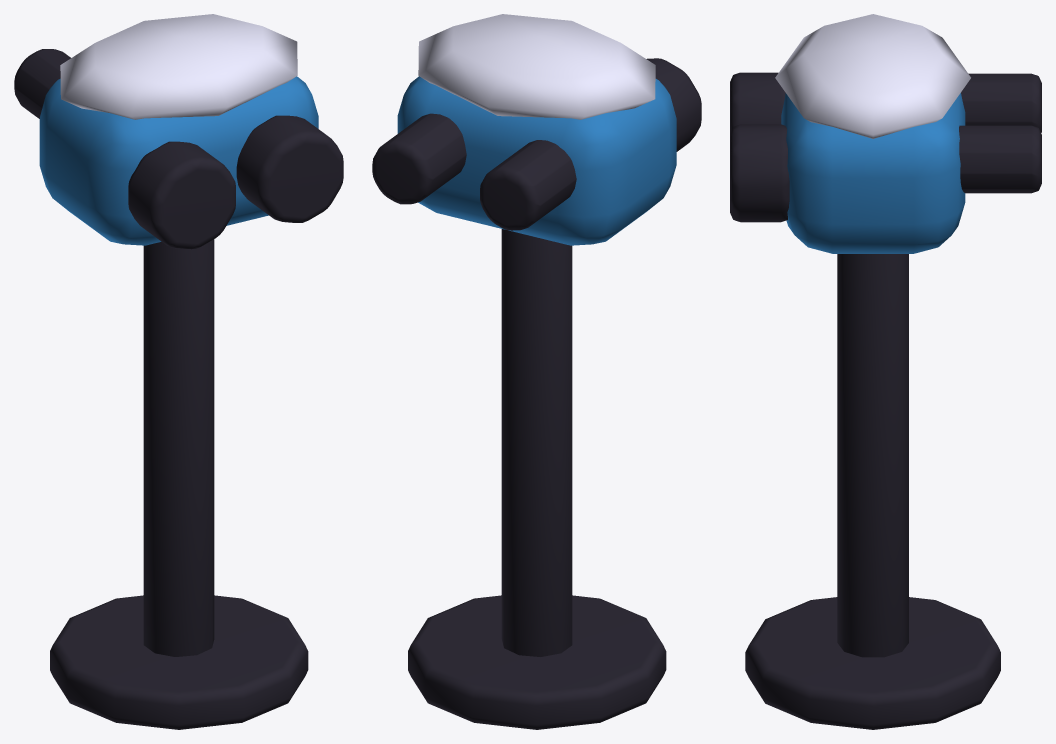
Rendered from frost_telescope.glb.
The picture shows the model from 3 angles, left to right: view 1: azimuth 30°, elevation 25°; view 2: azimuth 150°, elevation 25°; view 3: azimuth 270°, elevation 25°; orthographic projection.
Visible parts, largest first — view 1: Telescope; view 2: Telescope; view 3: Telescope.
Part boxes in pixels (x1,y1,x2,y2): Telescope: (14, 14, 343, 729); Telescope: (372, 14, 701, 729); Telescope: (730, 14, 1041, 729).
Bounding box in the file's own units: 0.528 × 1.37 × 0.61.
